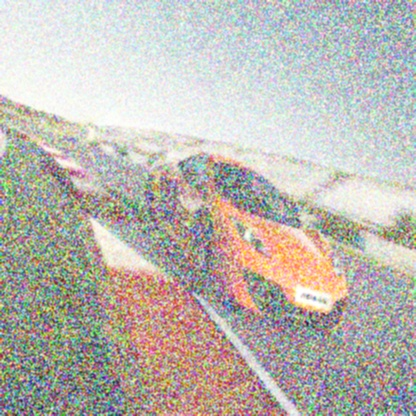Vehicle: (141, 144, 351, 336)
